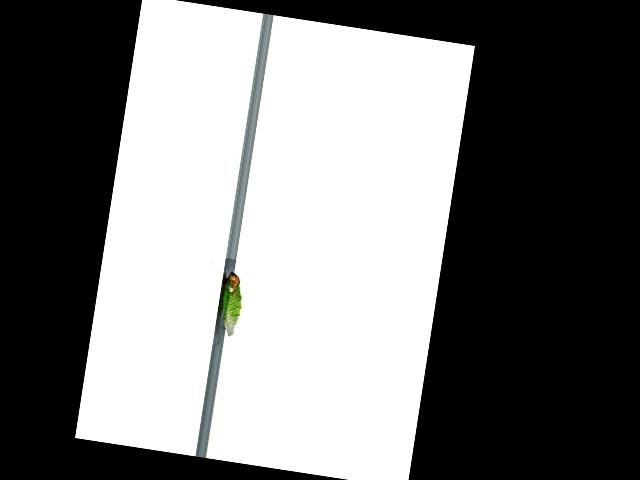lettuce: (213, 268, 248, 338)
